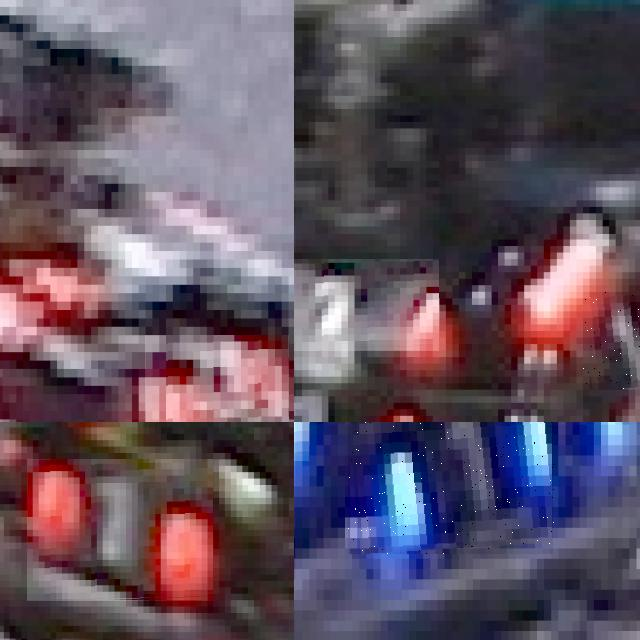B1: (348, 422, 554, 553)
R1: (27, 459, 213, 601), (294, 259, 439, 350), (294, 376, 432, 422), (583, 292, 640, 390)
R3: (145, 335, 288, 422)
